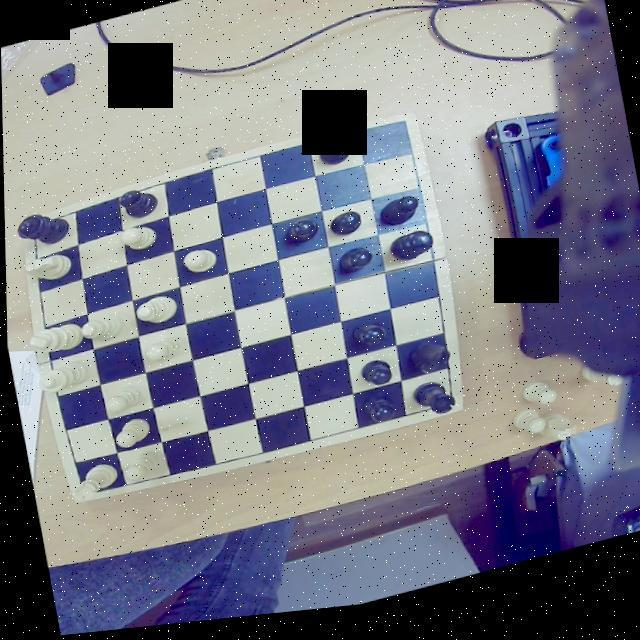chess-table-corners: (388, 120, 416, 148), (438, 396, 462, 422), (70, 484, 100, 504), (22, 219, 46, 242)
